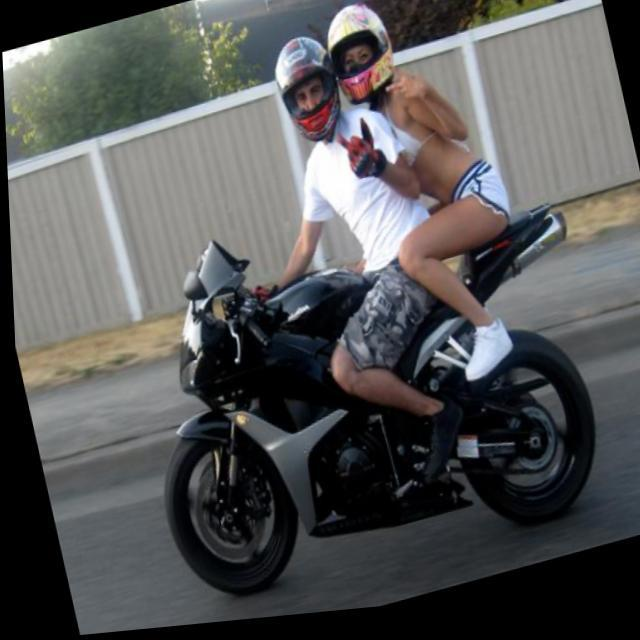Helmet: (320, 0, 413, 107), (270, 32, 353, 142)
